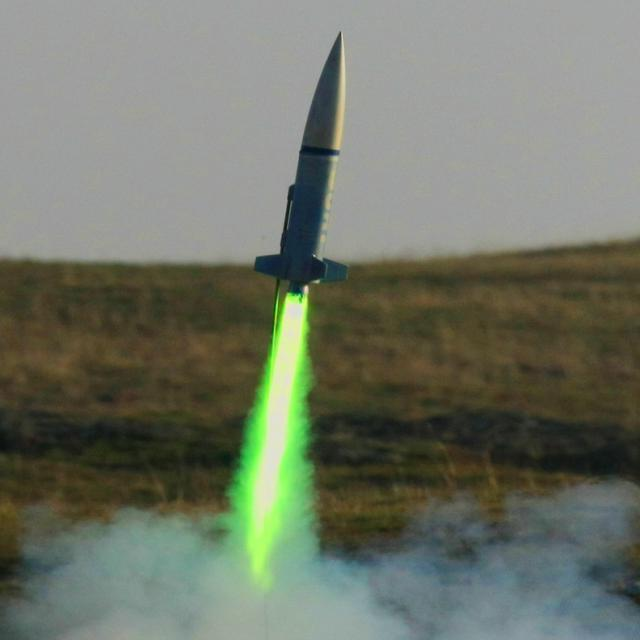Missile: (255, 27, 353, 295)
